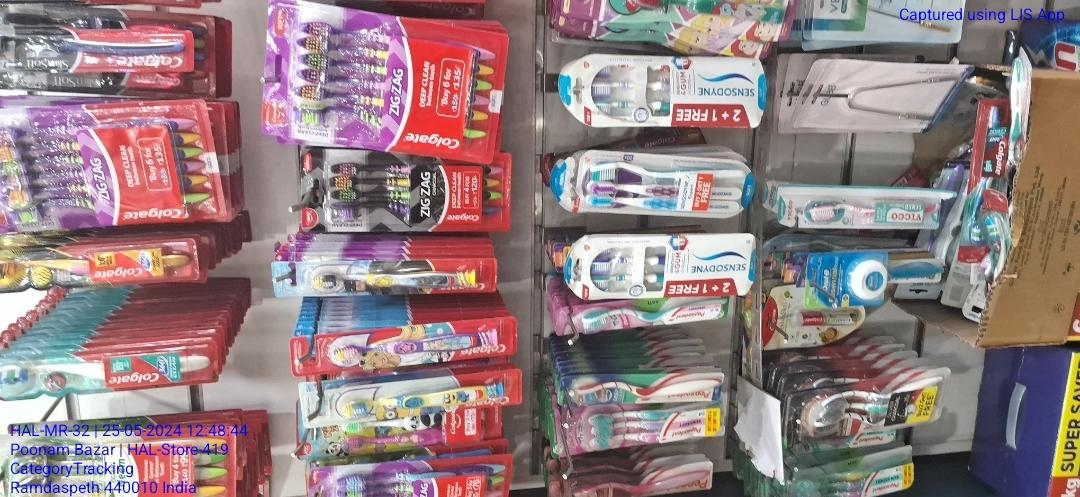12: (110, 256, 193, 333)
13: (356, 256, 422, 336)
16: (804, 258, 956, 353), (431, 262, 575, 349)
6: (609, 254, 749, 347)
liquid soap: (569, 139, 730, 234)
soap: (919, 0, 1021, 89)
